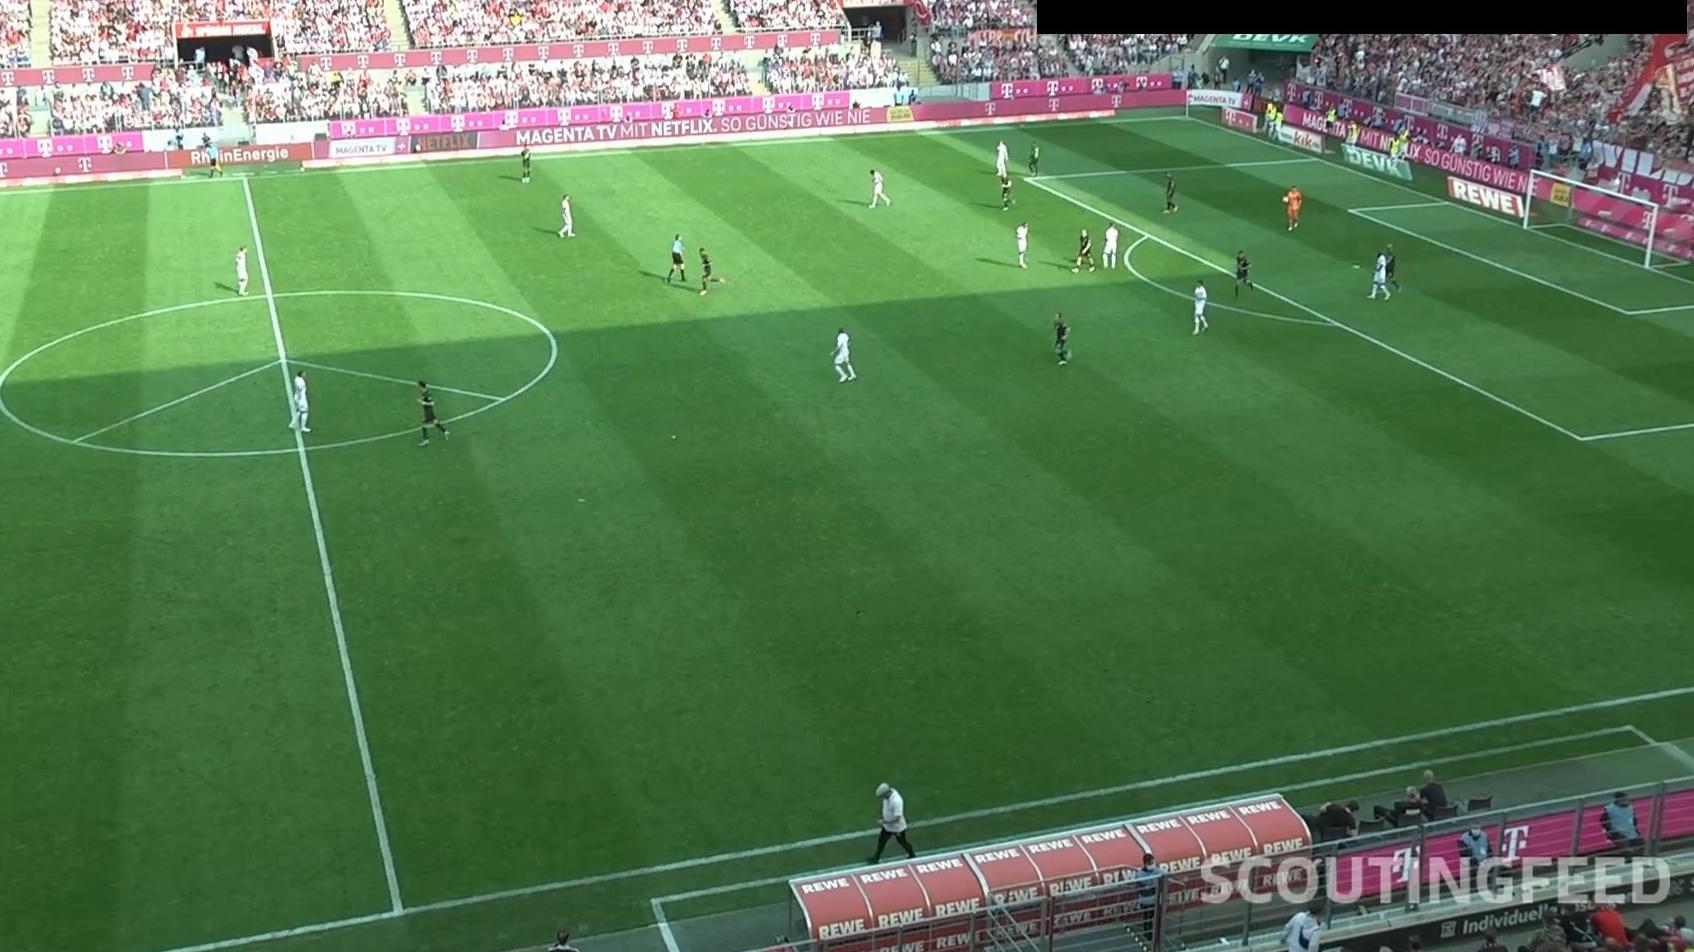ball: (1281, 196, 1289, 204)
